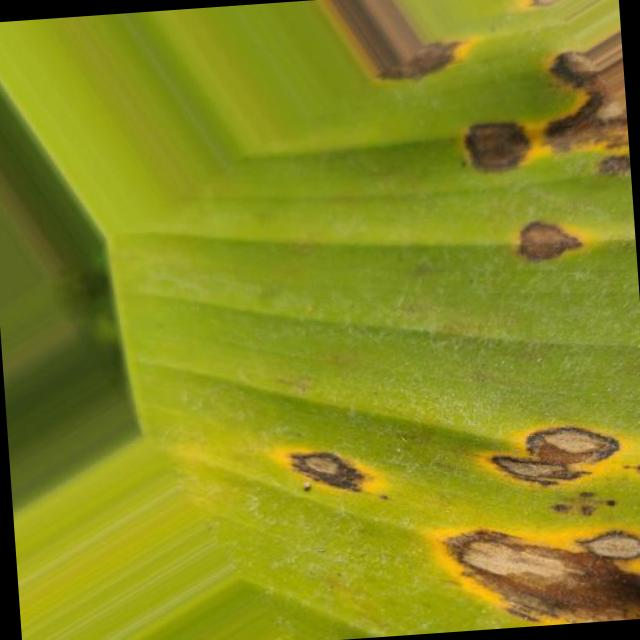Banana_Yellow_Sigatoka: (283, 399, 640, 635), (328, 0, 636, 273)
